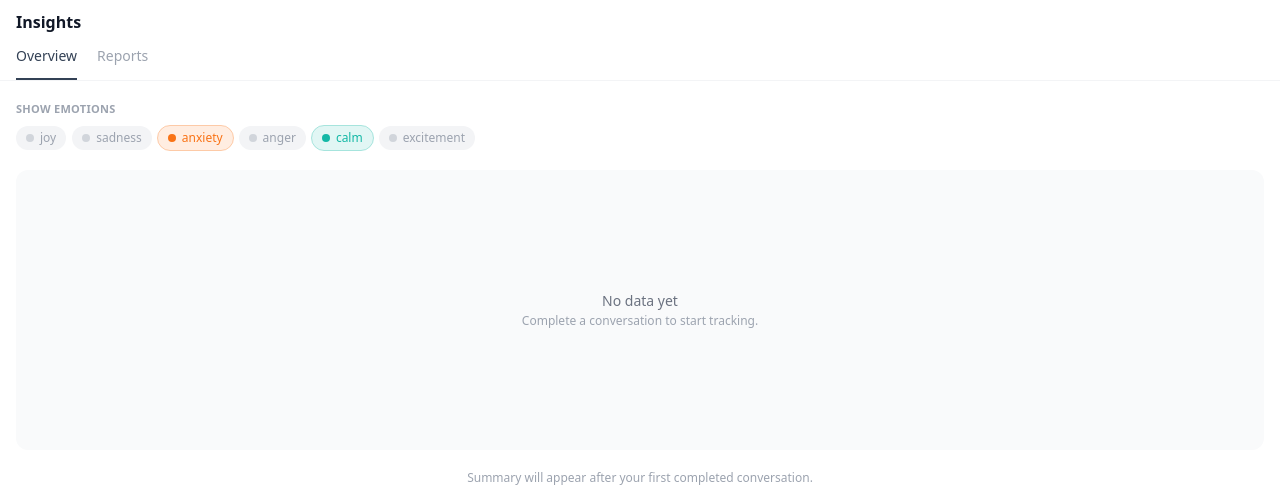
InsightsScreen — Reports tab empty state › shows the empty state after switching to the Reports tab with no data
Click the tab "Reports": (123, 63) [97,46,148,80]
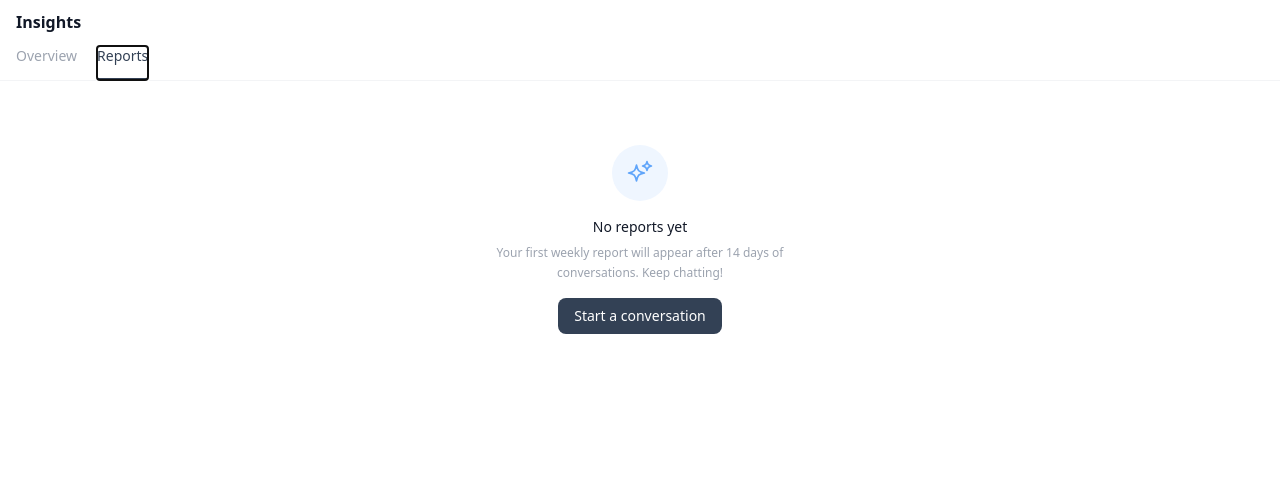
Result: the text "No reports yet" is shown at [593,217,687,236]
